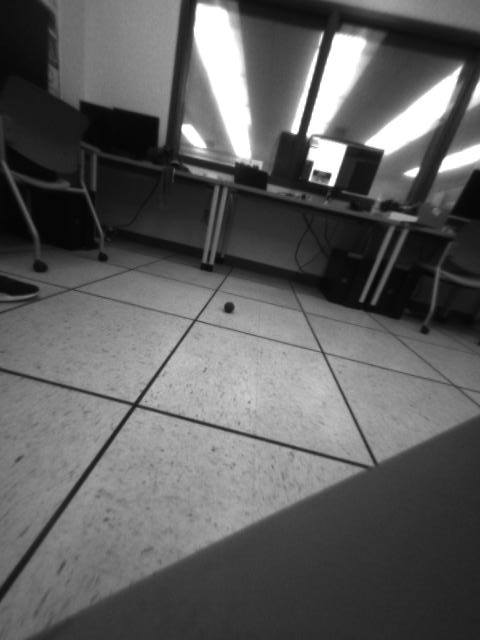dogtoy: (219, 293, 240, 319)
